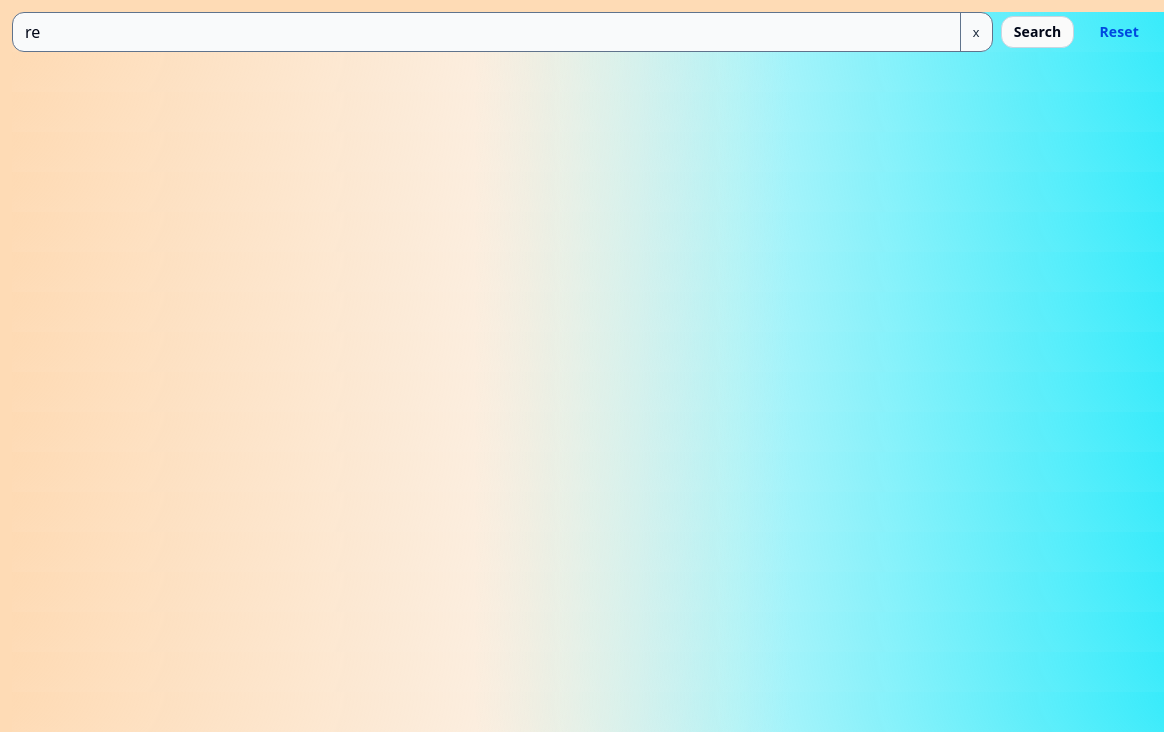
it: FilterBar › неуправляемый режим › defaultQuery и ввод, onQueryChange получает значение
The width and height of the screenshot is (1164, 732).
Type "act" into the search field. click: (486, 32)
box: [13,13,960,51]
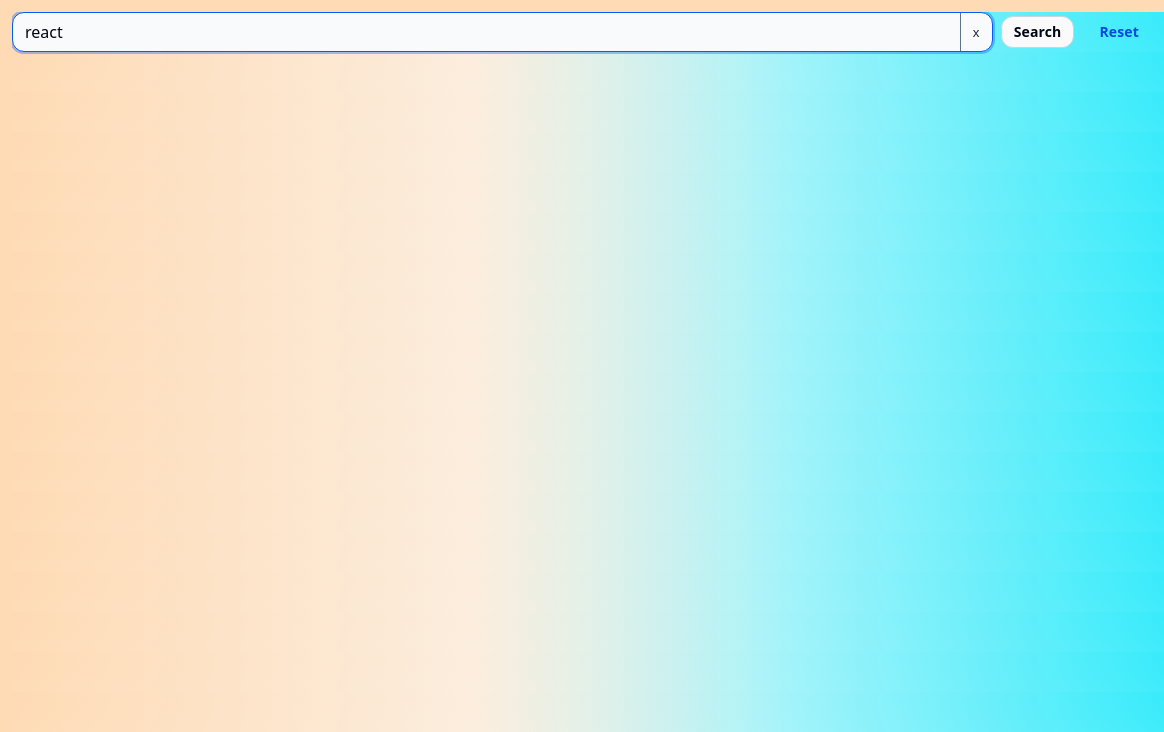
Check: the search field holds "react", box [13,13,960,51]
